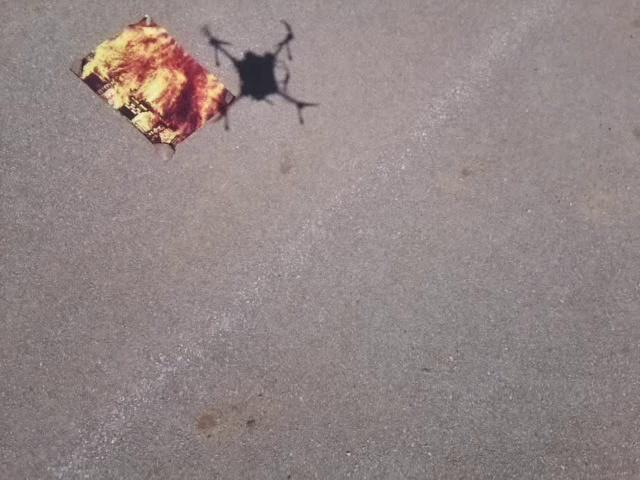fire-poster: (71, 14, 237, 162)
